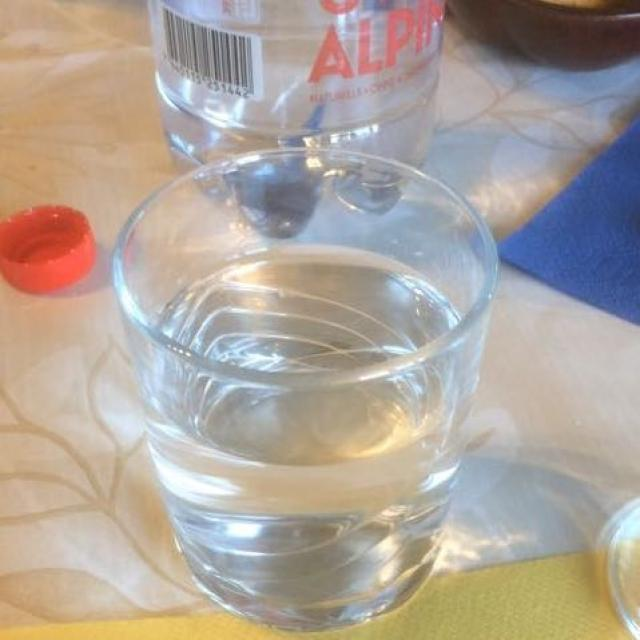water: (132, 198, 475, 532)
